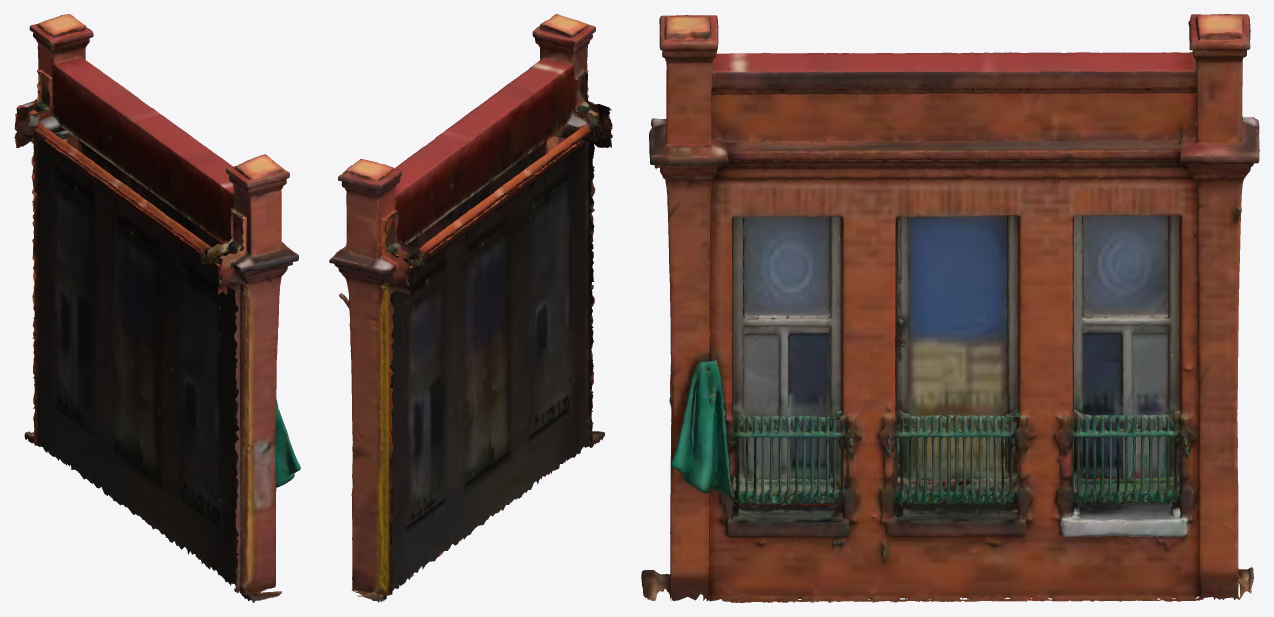
The picture shows the model from 3 angles, left to right: view 1: azimuth 30°, elevation 25°; view 2: azimuth 150°, elevation 25°; view 3: azimuth 270°, elevation 25°; orthographic projection. The views are drawn at different scales.
Parts seen in each view (by area): view 1: Meshy_AI_Brick_Storefront_with_0106045105_texture; view 2: Meshy_AI_Brick_Storefront_with_0106045105_texture; view 3: Meshy_AI_Brick_Storefront_with_0106045105_texture.
Part boxes in pixels (x1=…): Meshy_AI_Brick_Storefront_with_0106045105_texture: x1=14, y1=14, x2=300, y2=602; Meshy_AI_Brick_Storefront_with_0106045105_texture: x1=329, y1=14, x2=612, y2=602; Meshy_AI_Brick_Storefront_with_0106045105_texture: x1=641, y1=14, x2=1259, y2=602.
Bounding box in the file's own units: 0.2386 × 1.12 × 1.09.
Materials: 1 (1 with a texture image).
